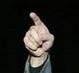up: (21, 11, 56, 56)
